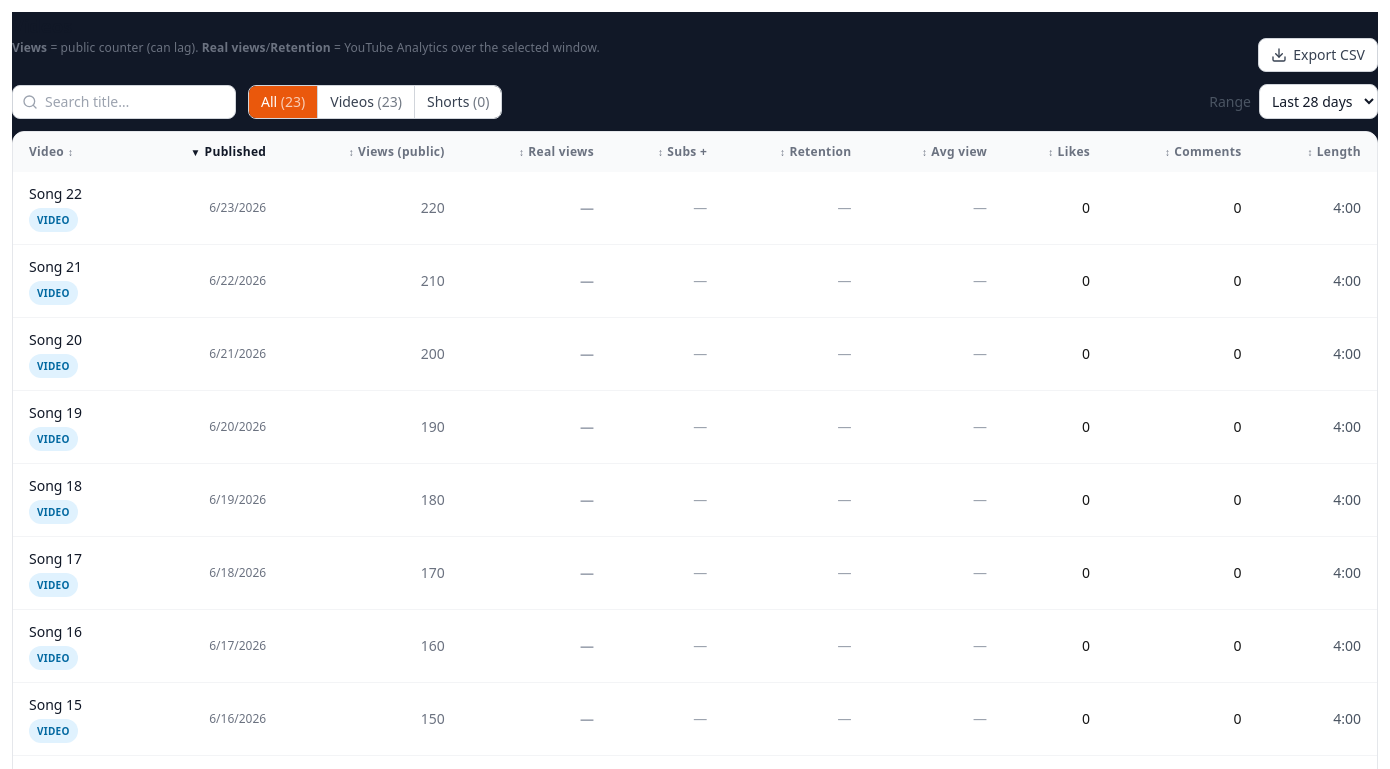
Test: YouTubeVideosPanel › re-queries analytics when the date range changes
Select "Last 90 days" in the dropdown showing "Last 28 days" at {"x": 1318, "y": 102}, box [1259,84,1378,119]
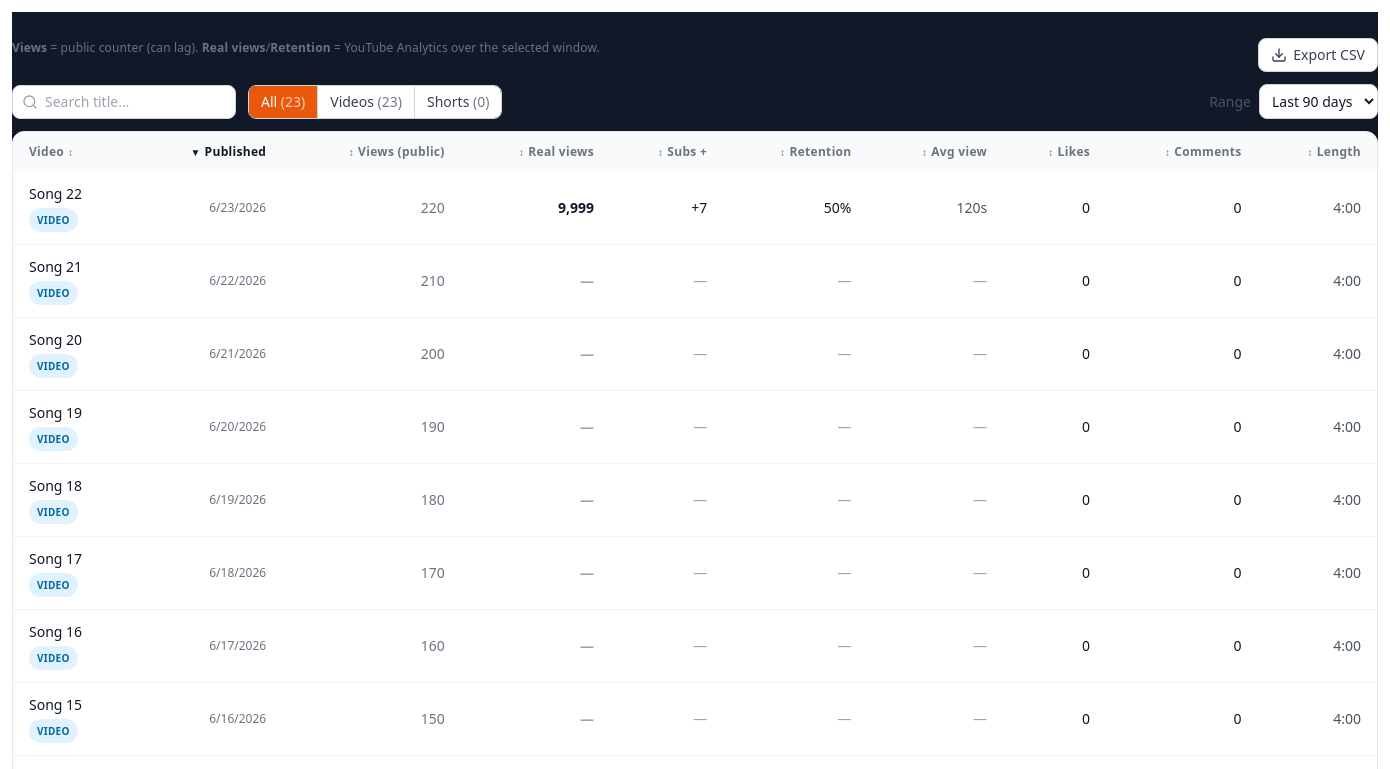
Result: the text "9,999" is shown at [461,172,610,244]
